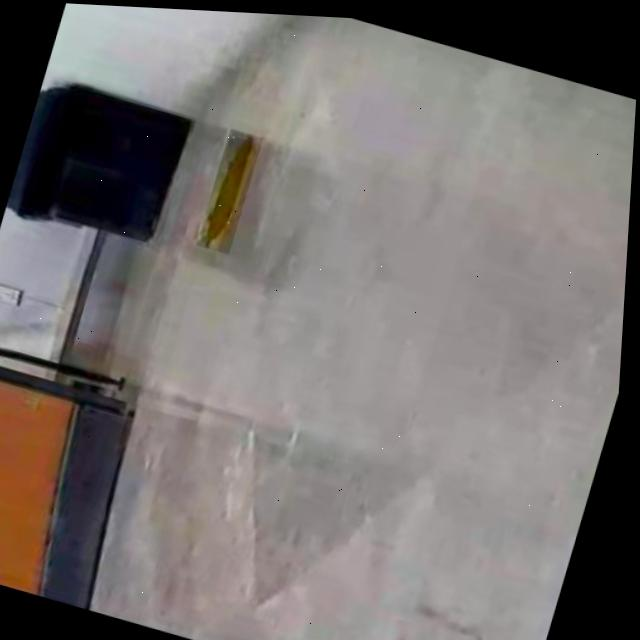spillage: (203, 131, 261, 247)
